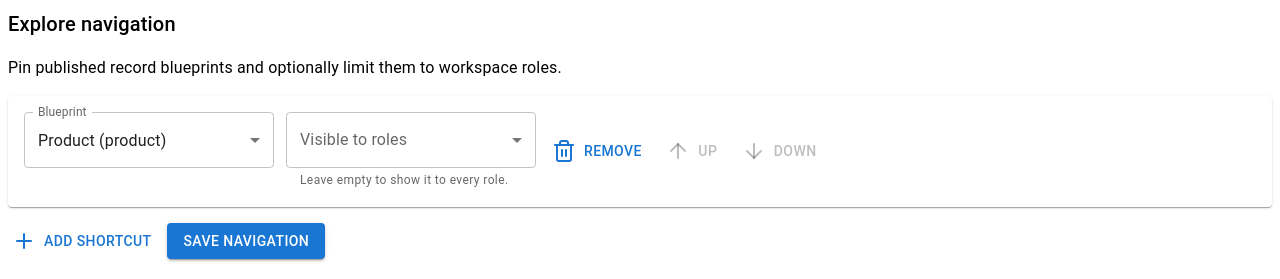
Test case: WorkspaceNavigationSection › keeps the saved navigation snapshot stable until the request finishes
Expected: the button "Remove" is shown, [548,112,650,191]
Click the button "Save navigation" at (246, 241), box [168,223,325,259]
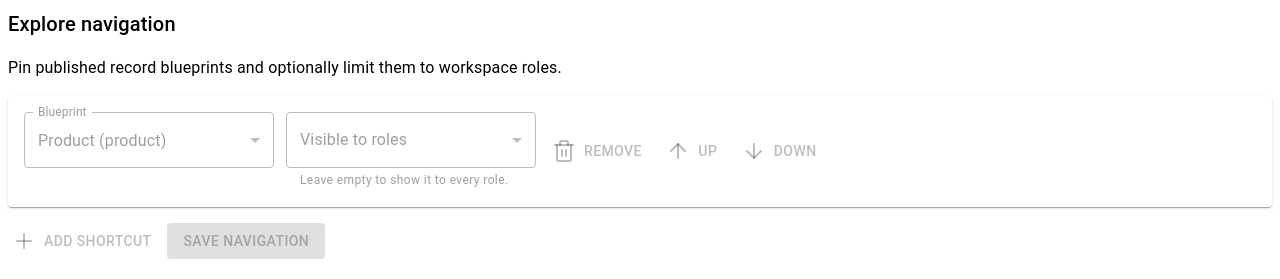
Expected: the button "Remove" is disabled, [548,112,650,191]
Expected: the button "Add shortcut" is disabled, [8,223,160,259]
